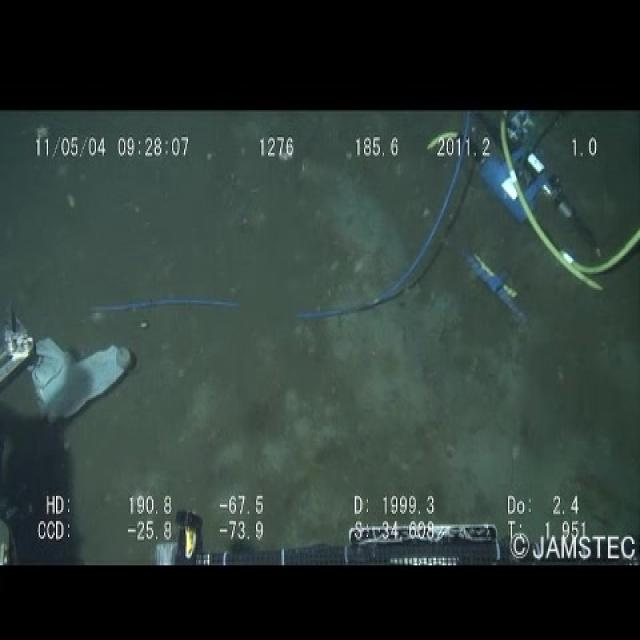plastic: (24, 329, 136, 427)
